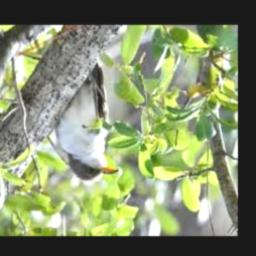Cuckoo: (55, 62, 119, 183)
